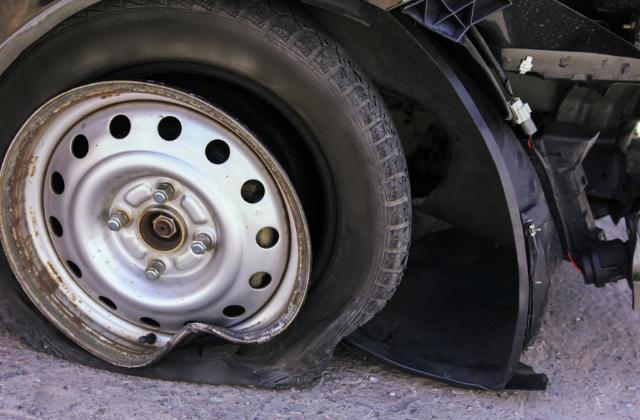Bumper: (474, 7, 640, 379)
